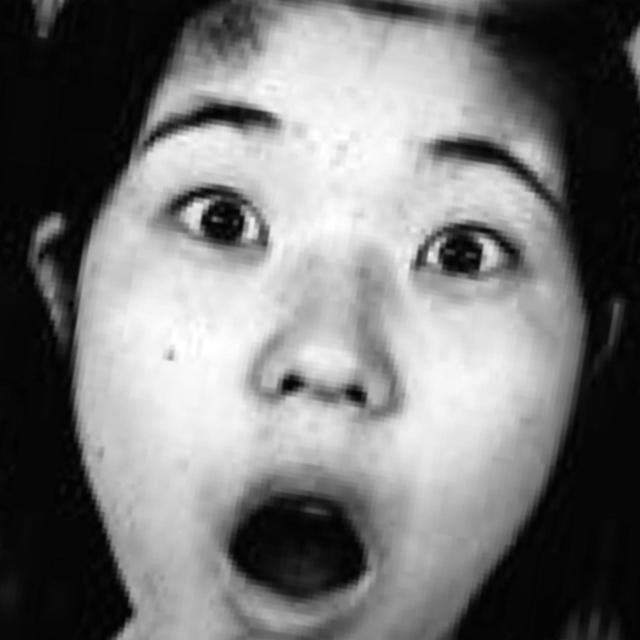surprise: (78, 45, 561, 640)
